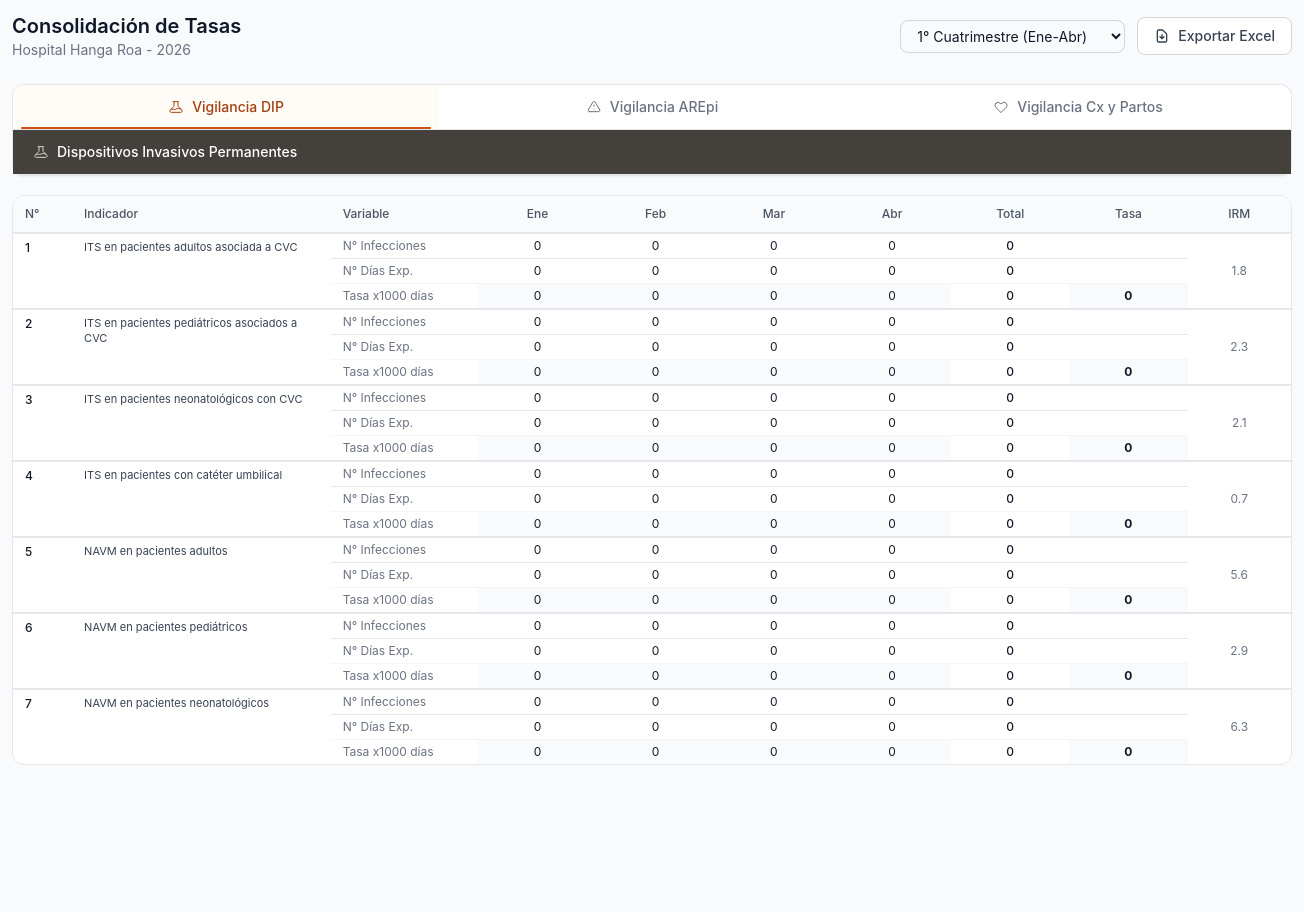
Test: ConsolidacionPage › switches to AREpi tab
The image size is (1304, 912).
Click the button "Vigilancia AREpi" at (652, 107), box [439,85,865,129]
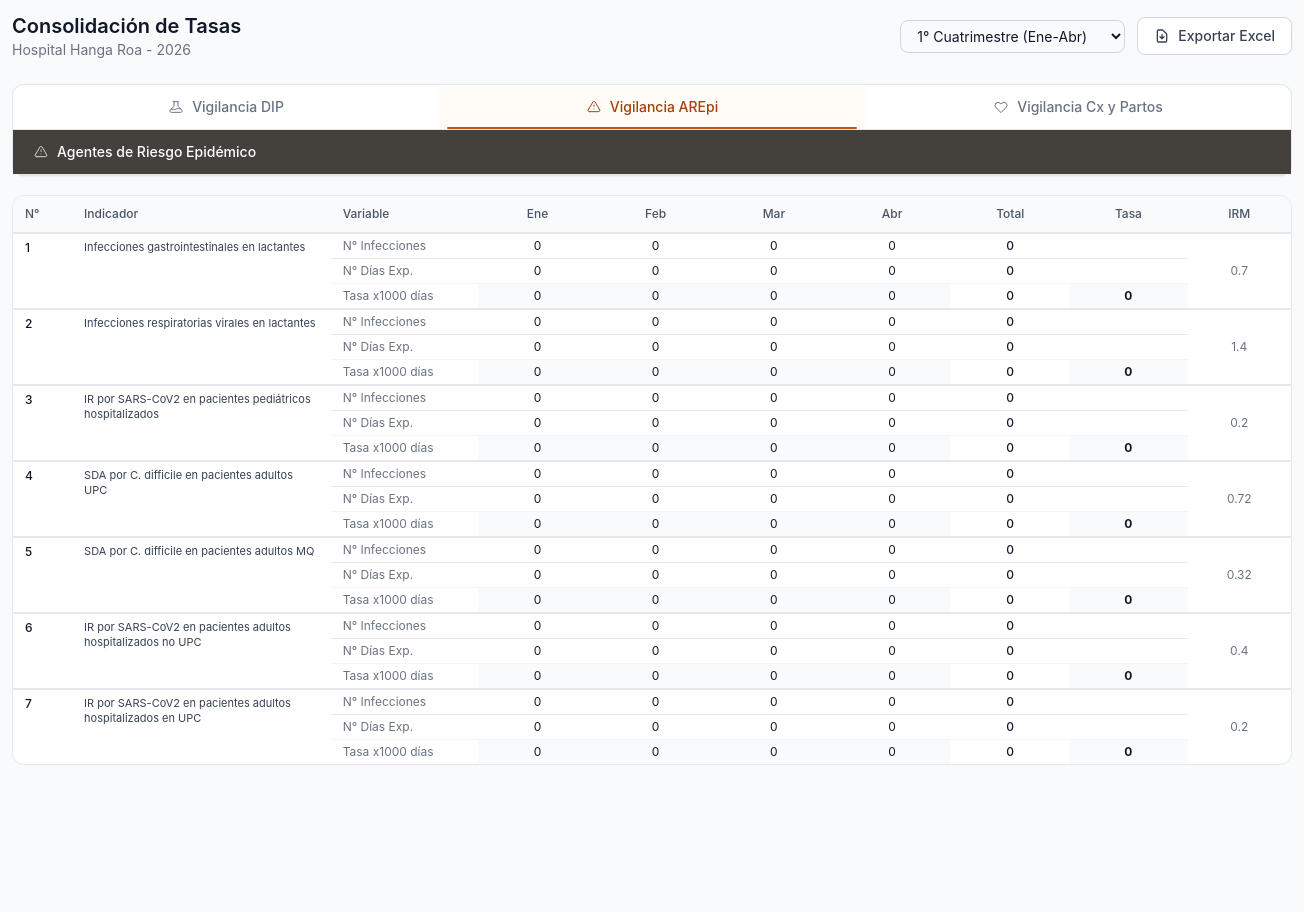
Now the text "Infecciones gastrointestinales en lactantes" is shown, box [72,233,331,309]
